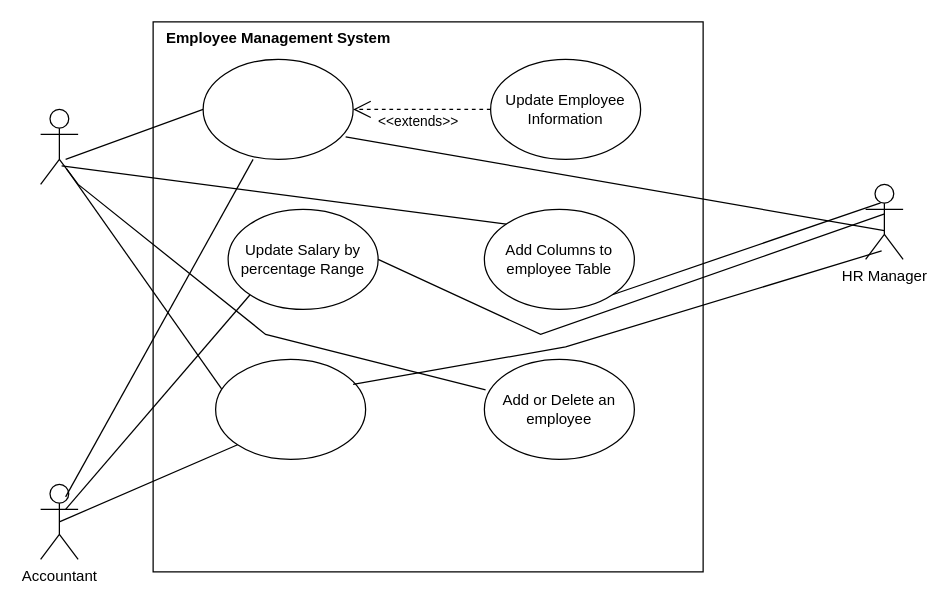
The diagram is 948 pixels wide and 608 high, and some of its shapes have lost their labels. Each missing label, with the box of its shape:
Admin: (39, 108, 78, 184)
Generate Employee Report: (214, 358, 366, 459)
Search Employee in database (By name, ssn, ID, etc): (202, 58, 353, 159)
